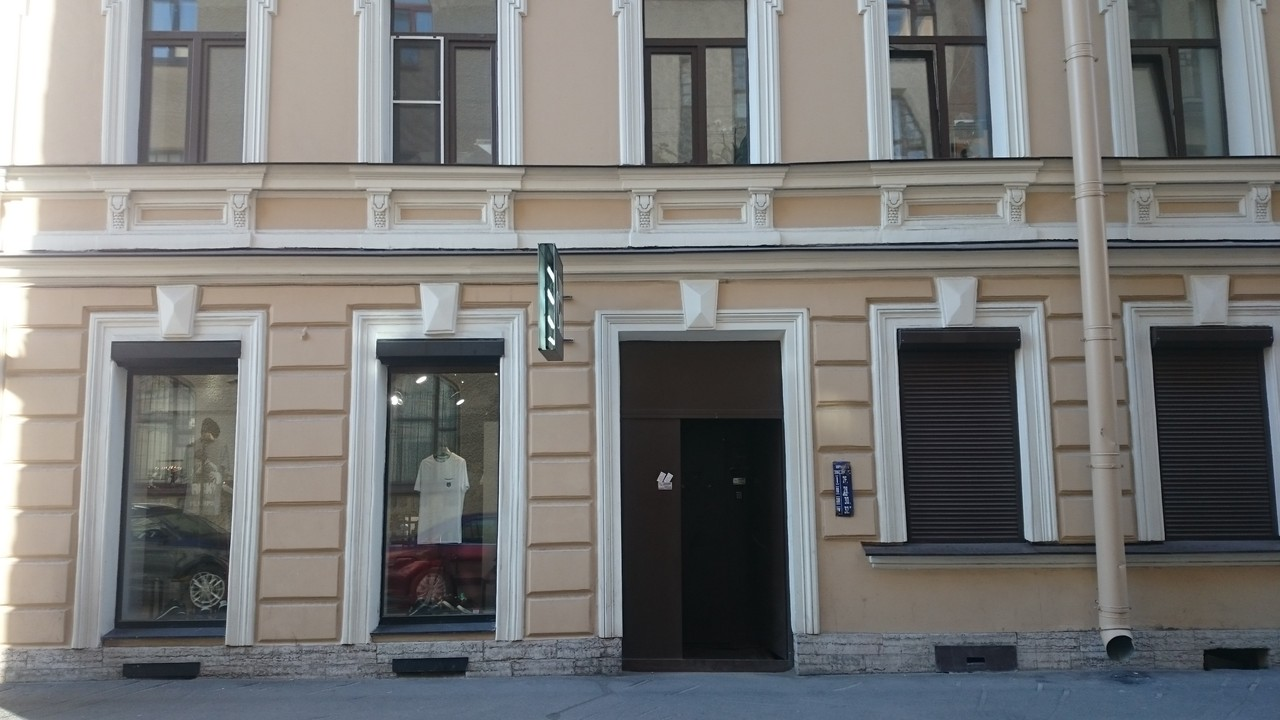cantilever: (535, 242, 575, 360)
door: (671, 418, 792, 667)
window: (377, 354, 499, 623), (117, 366, 238, 632), (907, 329, 1016, 548), (138, 1, 245, 167), (392, 1, 499, 167), (646, 1, 746, 166), (892, 2, 987, 163), (1129, 1, 1225, 158)
